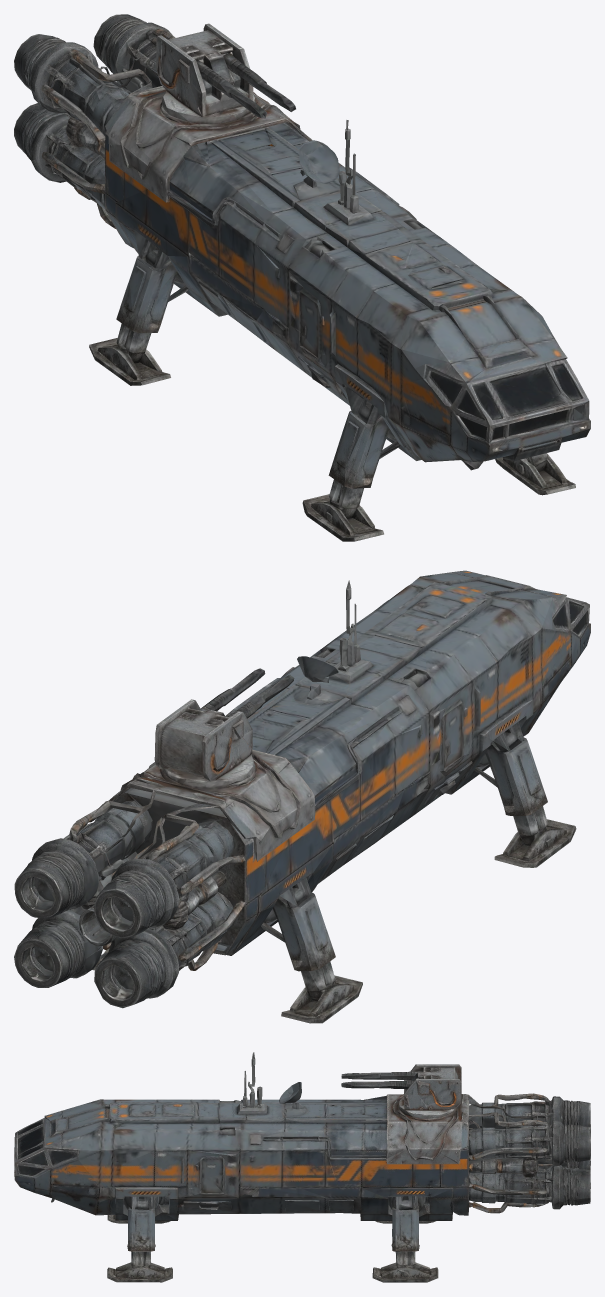
Rendered from surveyor.glb.
3 renders of one model, top to bottom at view 1: azimuth 30°, elevation 25°; view 2: azimuth 150°, elevation 25°; view 3: azimuth 270°, elevation 25°, orthographic. The views are drawn at different scales.
Parts seen in each view (by area): view 1: Mesh_0; view 2: Mesh_0; view 3: Mesh_0.
Boxes of the visible parts, box(x1,y1,x2,y2) form: Mesh_0: box(14, 14, 590, 541); Mesh_0: box(14, 570, 590, 1023); Mesh_0: box(14, 1052, 590, 1282).
Size of the model in its own units: 6.83 by 8.98 by 24.
1 material, 1 textured.
